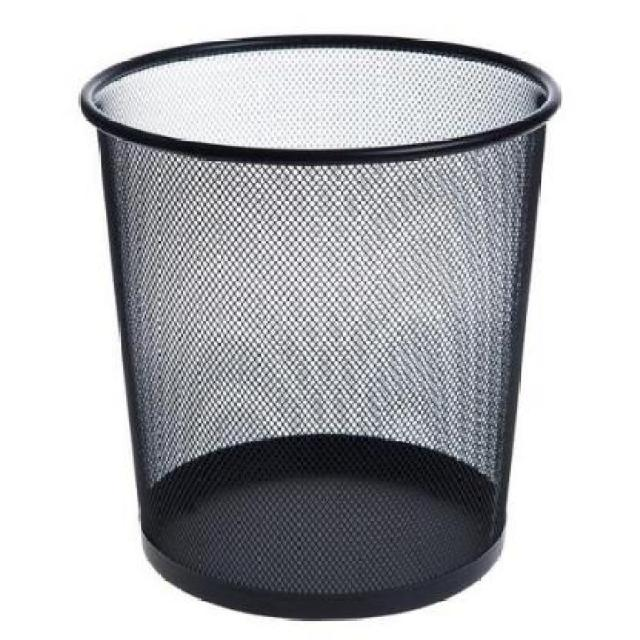dustbin: (63, 14, 572, 621)
